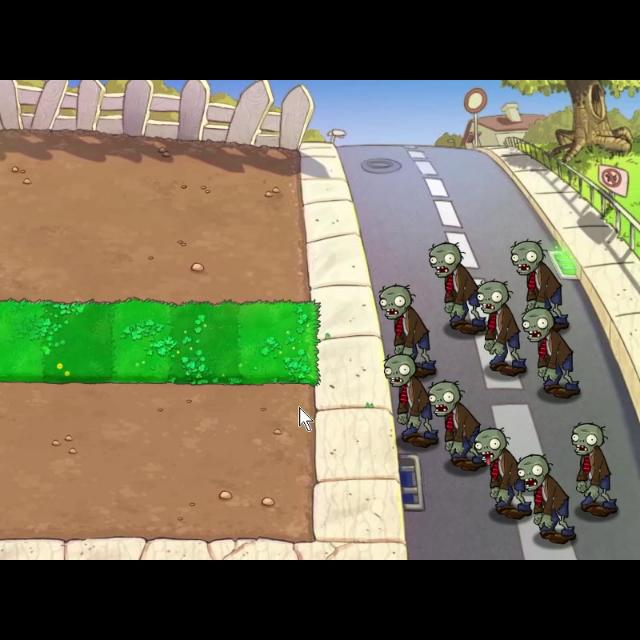Garden: (1, 288, 330, 396)
Zombie: (422, 237, 492, 339), (471, 275, 532, 381), (376, 283, 442, 379), (518, 308, 586, 400), (510, 236, 570, 340), (516, 451, 580, 547), (427, 378, 489, 477), (477, 419, 533, 526), (381, 353, 441, 451), (565, 422, 621, 518)
